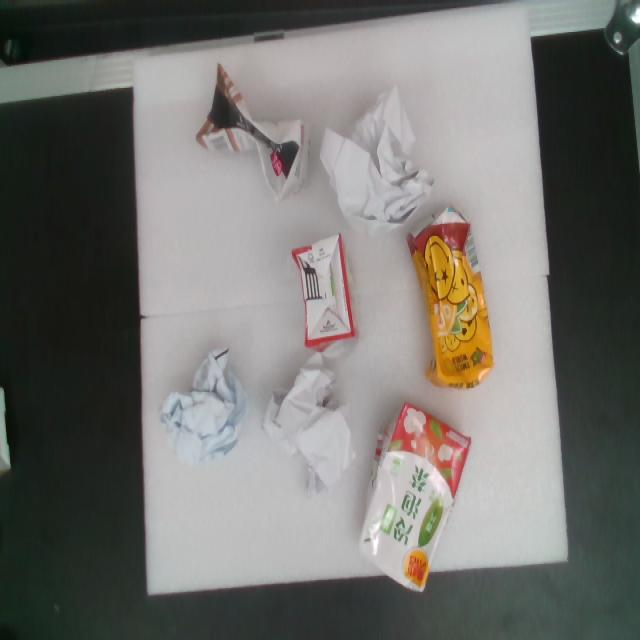juicebox: (335, 386, 490, 611), (166, 53, 349, 218), (389, 195, 508, 405), (284, 228, 364, 354)
paper: (285, 64, 485, 273), (255, 347, 364, 515), (151, 332, 259, 480)
